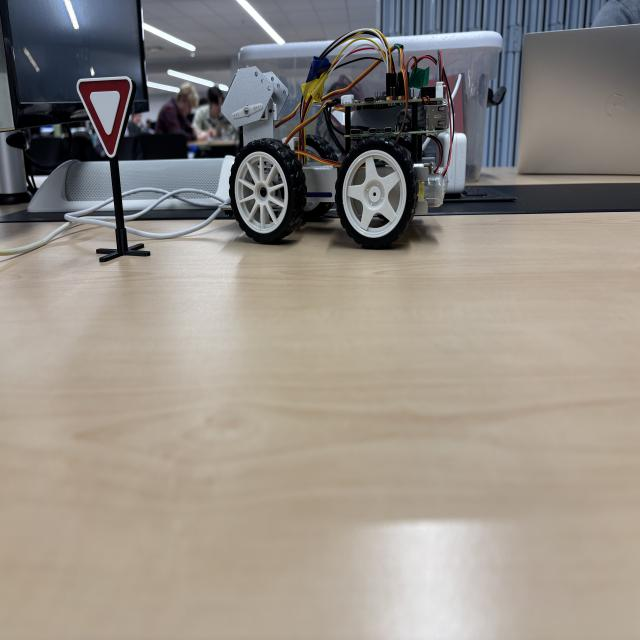sign_yield: (80, 78, 137, 160)
vehicle: (223, 28, 445, 250)
